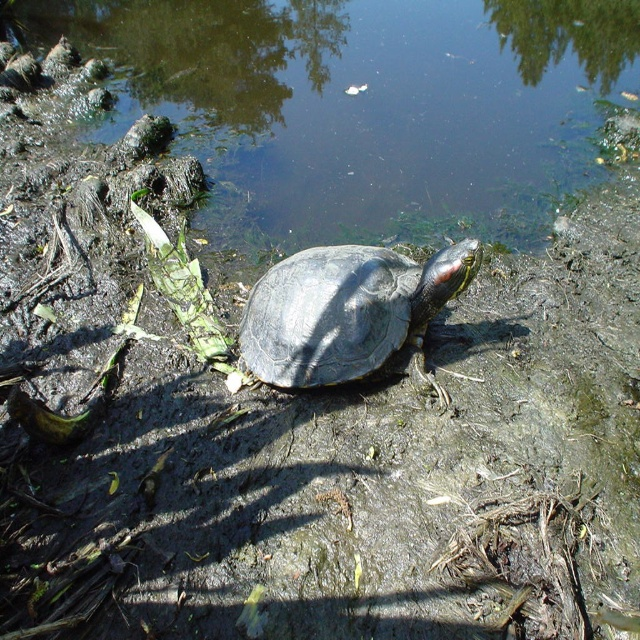Sea turtle: (232, 227, 485, 409)
